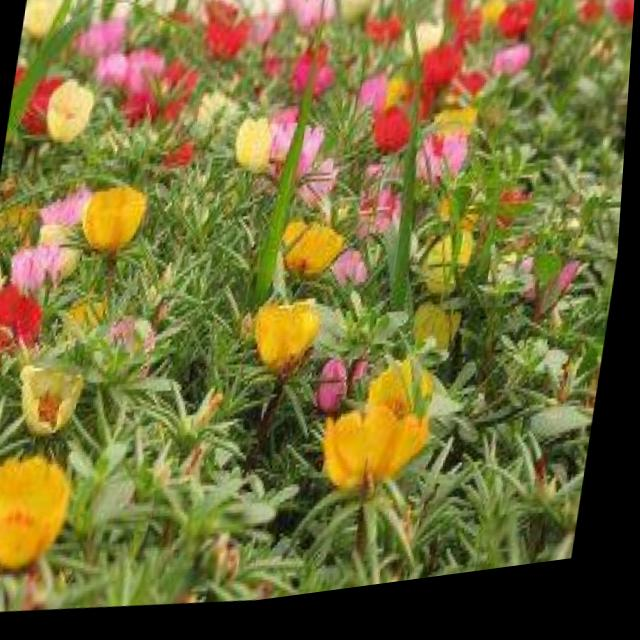Flower: (314, 387, 451, 508), (0, 438, 95, 573), (20, 337, 103, 447), (87, 166, 162, 270), (247, 294, 334, 382), (274, 216, 356, 299), (33, 65, 105, 151), (397, 319, 475, 383), (232, 109, 299, 175)
